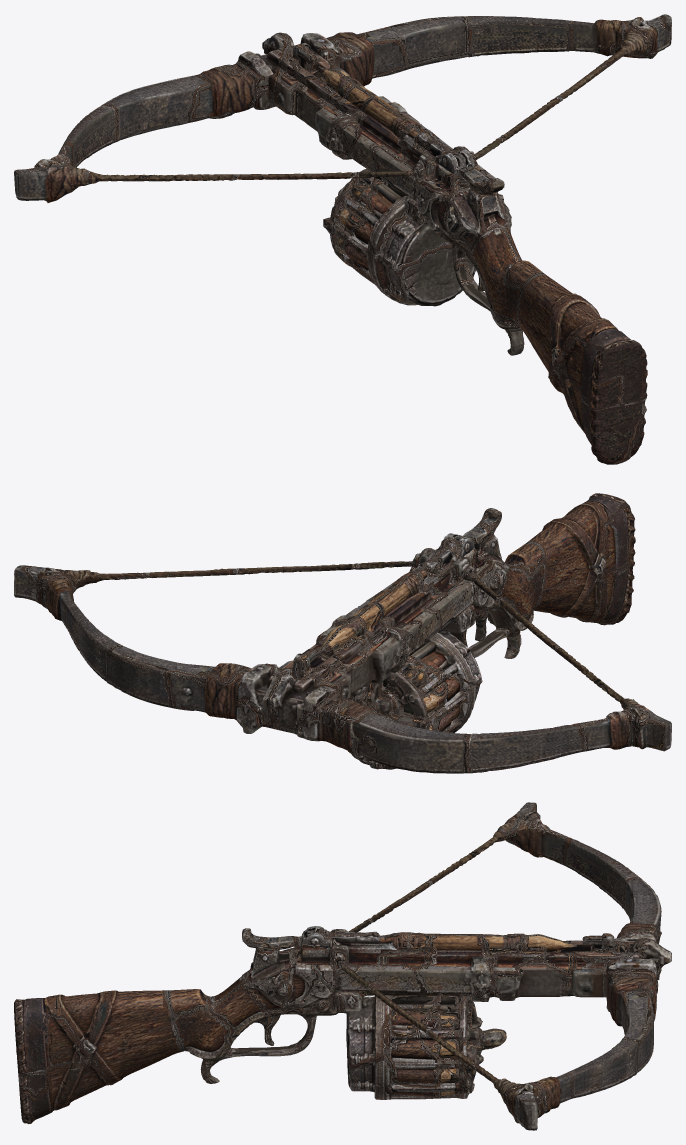
Rendered from stake_gun.obj.
The picture shows the model from 3 angles, top to bottom: view 1: azimuth 30°, elevation 25°; view 2: azimuth 150°, elevation 25°; view 3: azimuth 270°, elevation 25°; orthographic projection. The views are drawn at different scales.
Visible parts, largest first — view 1: StakeGun; view 2: StakeGun; view 3: StakeGun.
Boxes of the visible parts, x1,y1,x2,y2 form: StakeGun: [14, 14, 671, 464]; StakeGun: [14, 493, 671, 773]; StakeGun: [14, 802, 671, 1130].
Bounding box in the file's own units: 0.9795 × 0.2889 × 0.9058.
1 material, 1 textured.
